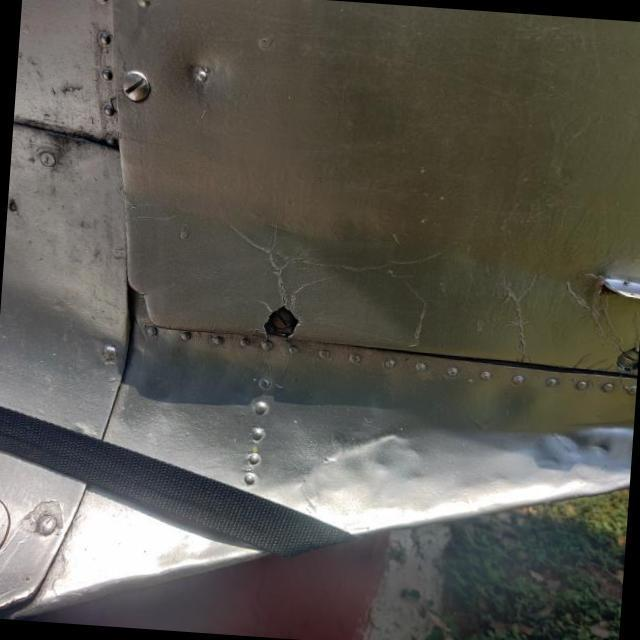Rupture: (202, 211, 336, 353)
